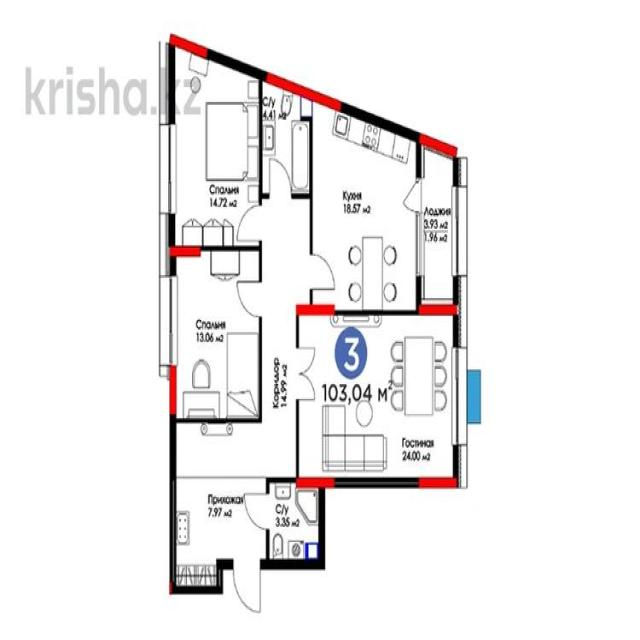balcony: (422, 142, 457, 299)
bathroom: (260, 83, 312, 198), (267, 480, 325, 559)
hallway: (175, 202, 301, 479), (172, 479, 268, 563)
kitchen: (309, 104, 418, 309)
living_room: (296, 310, 459, 485), (171, 44, 261, 248), (170, 245, 261, 422)
